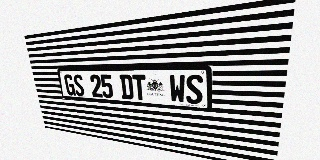2: (89, 74, 103, 98)
5: (100, 74, 114, 98)
D: (119, 74, 134, 100)
G: (63, 74, 76, 96)
S: (185, 75, 203, 105), (72, 74, 85, 96)
T: (132, 74, 147, 101)
W: (169, 75, 185, 103)
